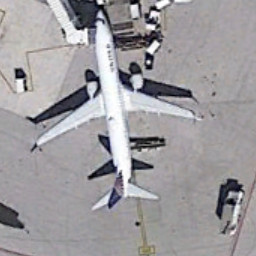Airplane: (15, 5, 209, 212)
